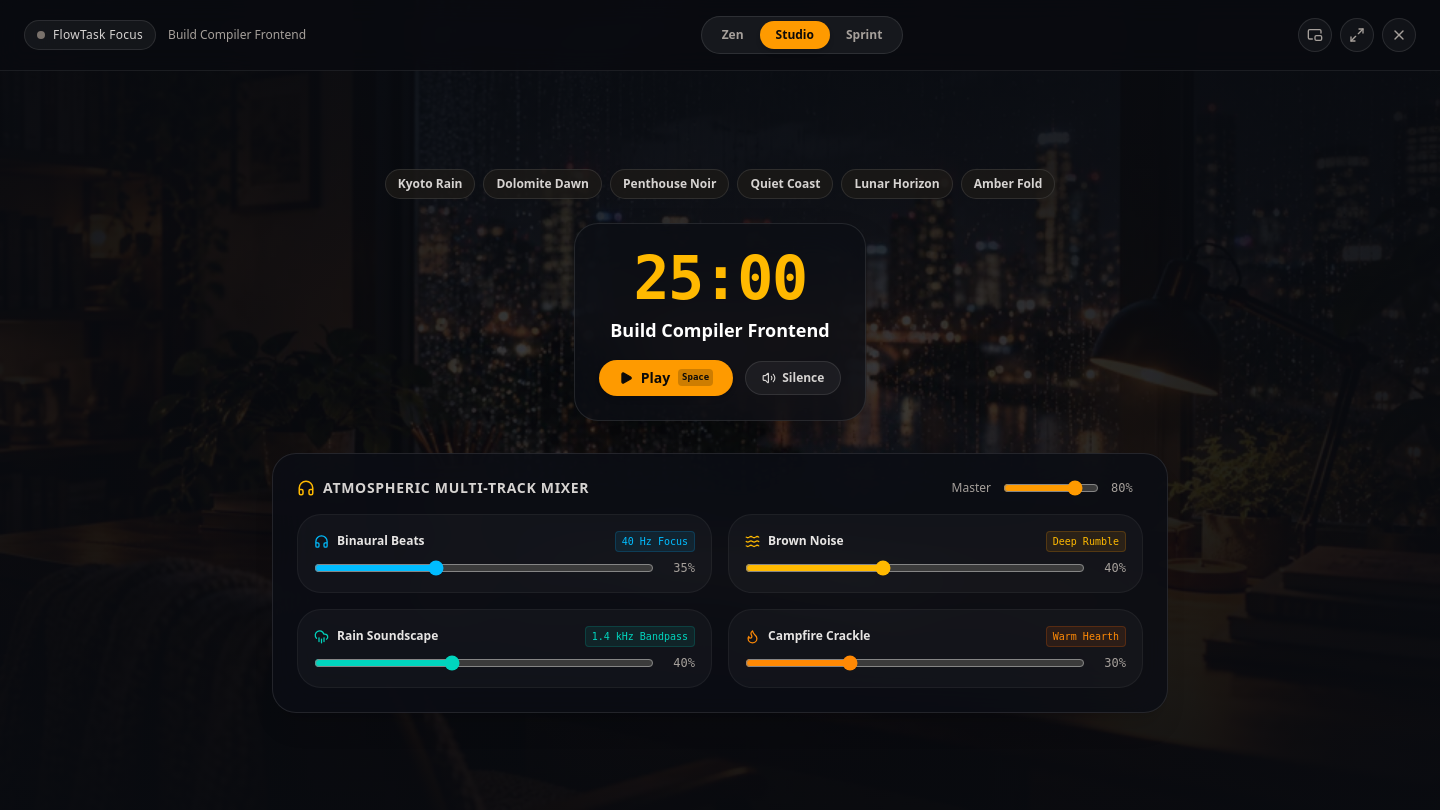
Scenario: FocusEngineModal (Milestone 3 Comprehensive Suite) › 3. Lo-Fi Studio Audio Mixer › 3.3 adjusts individual channel sliders (binaural, brown, rain, campfire) and updates values
This screenshot has width=1440, height=810.
Set the slider named "Binaural Beats volume" to "0.65": (533, 568) [314,560,654,576]
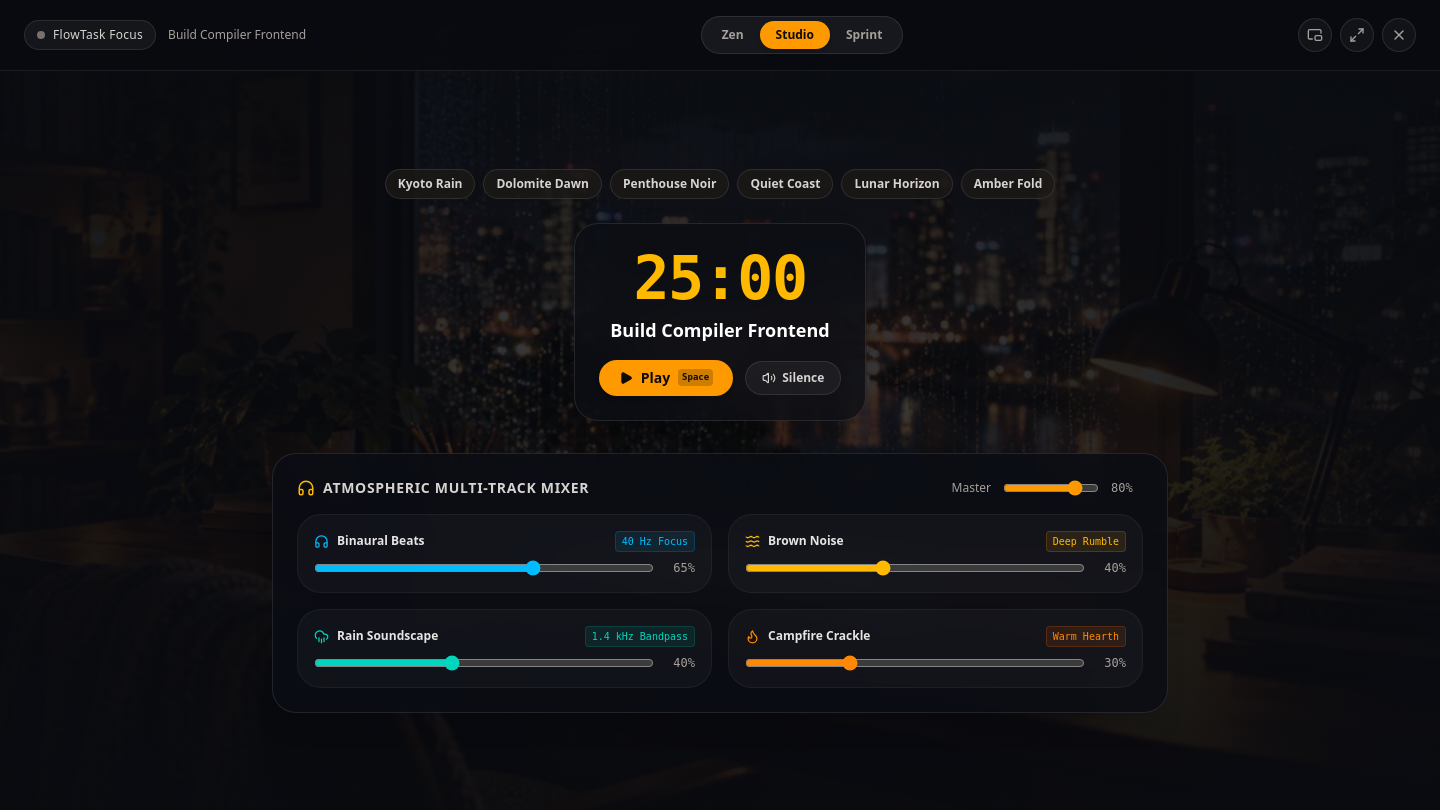
Result: the text "65%" is shown at [673,560,695,574]
Set the slider named "Brown Noise volume" to "0.50": (915, 568) [745,560,1085,576]
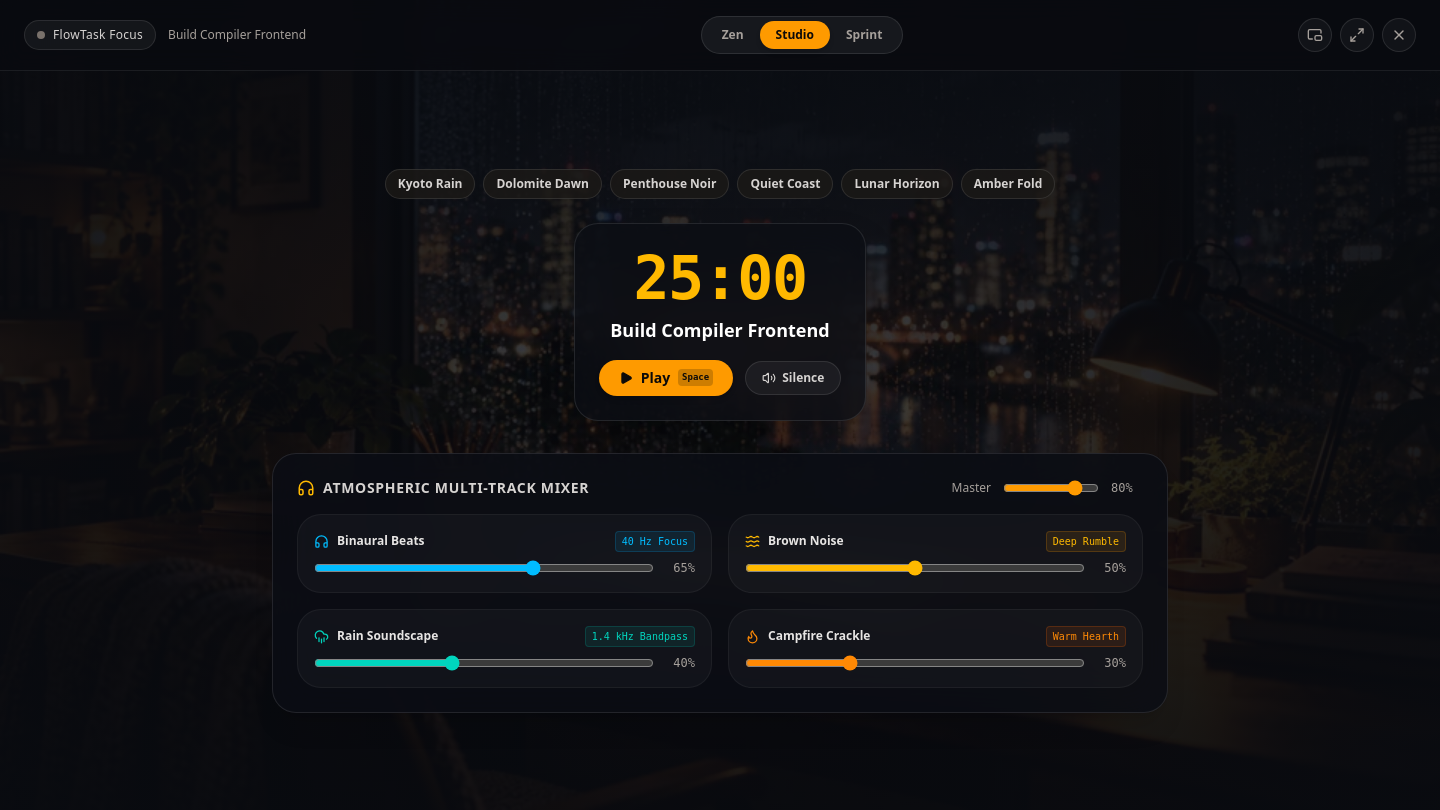
Result: the text "50%" is shown at [1104,560,1126,574]
Set the slider named "Rain volume" to "0.75": (565, 662) [314,654,654,670]
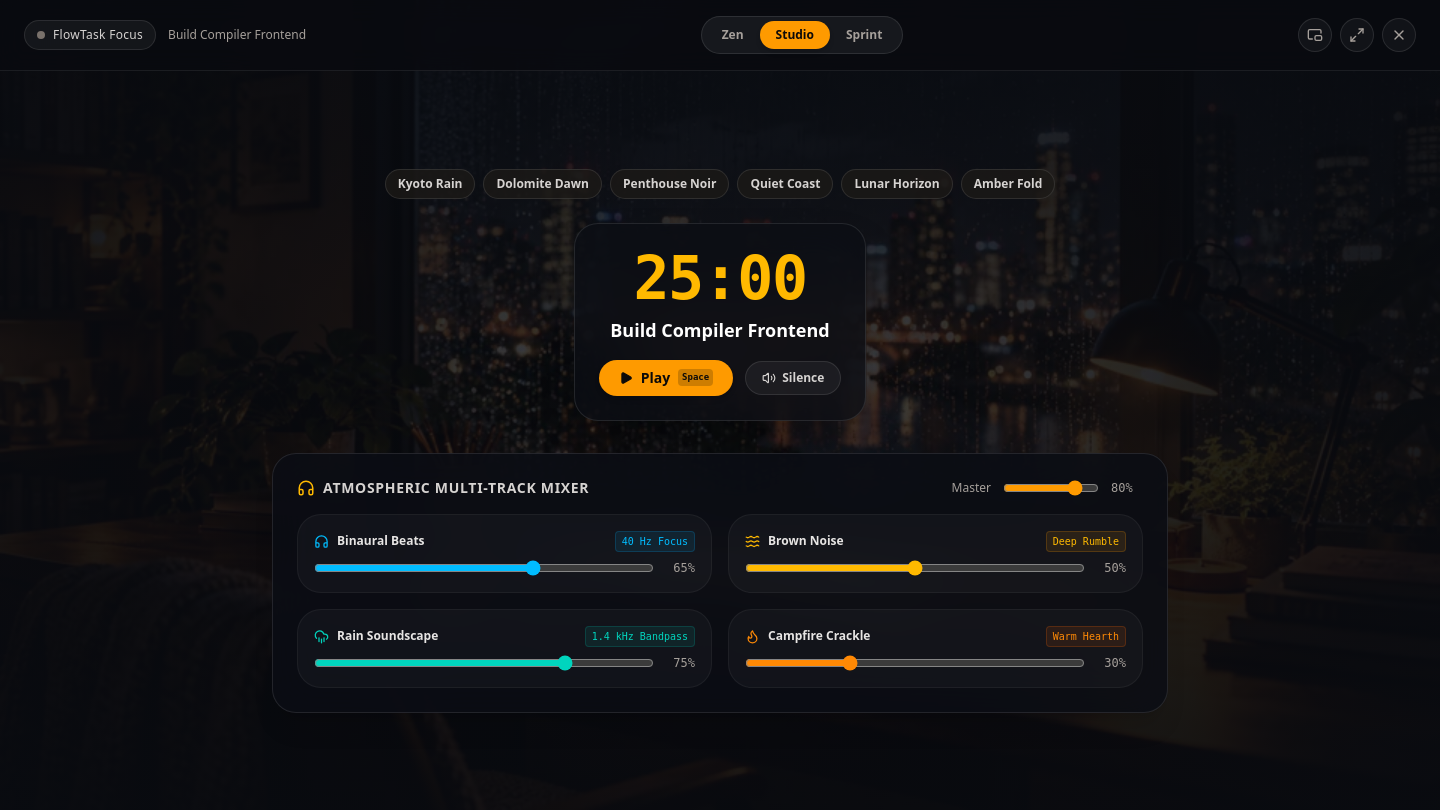
Result: the text "75%" is shown at [673,656,695,670]
Set the slider named "Campfire volume" to "0.20": (818, 662) [745,654,1085,670]
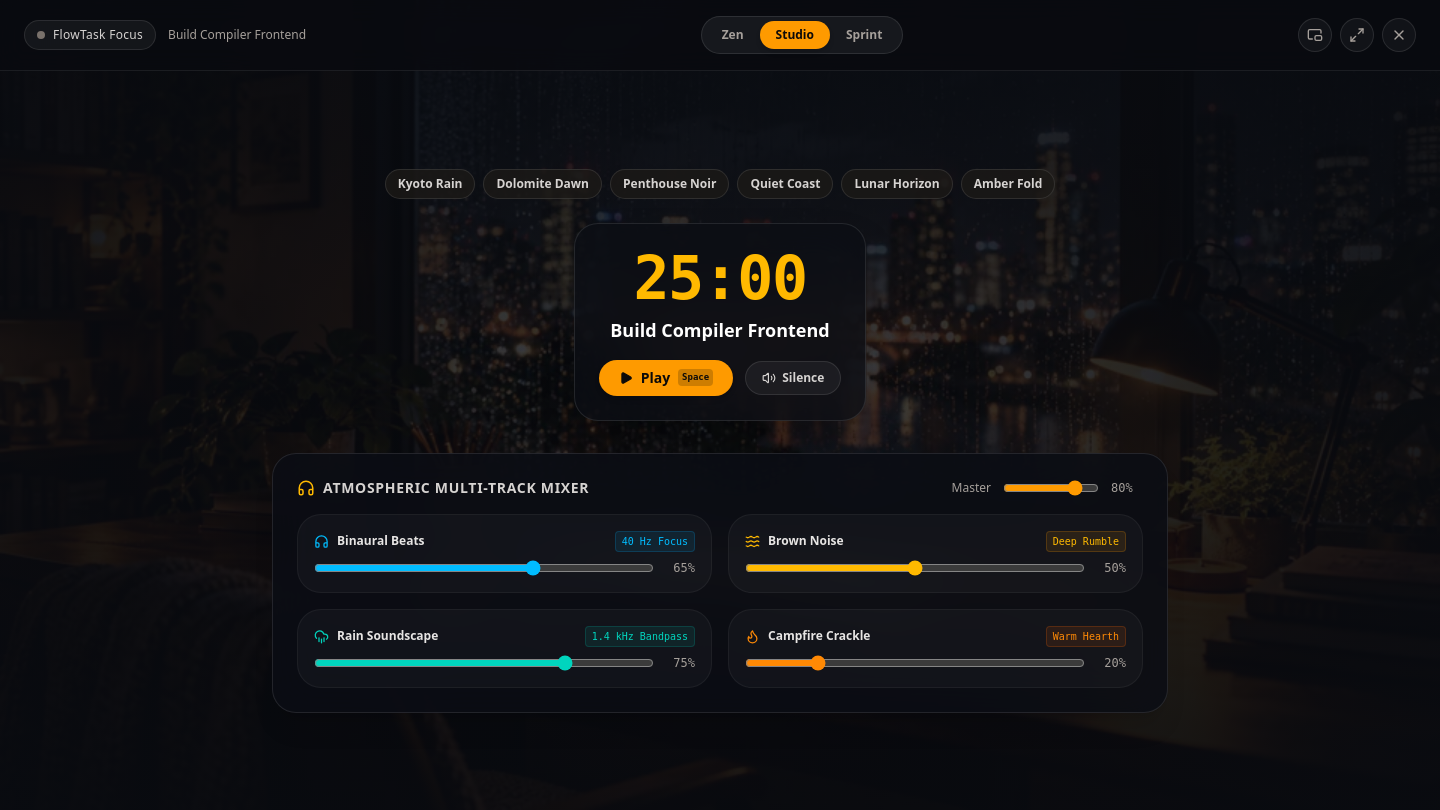
Result: the text "20%" is shown at [1104,656,1126,670]
